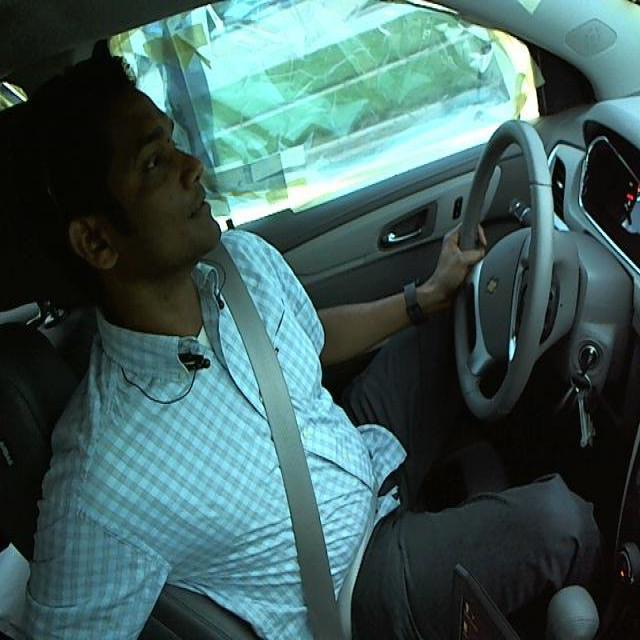seatbelt: (213, 287, 370, 628)
